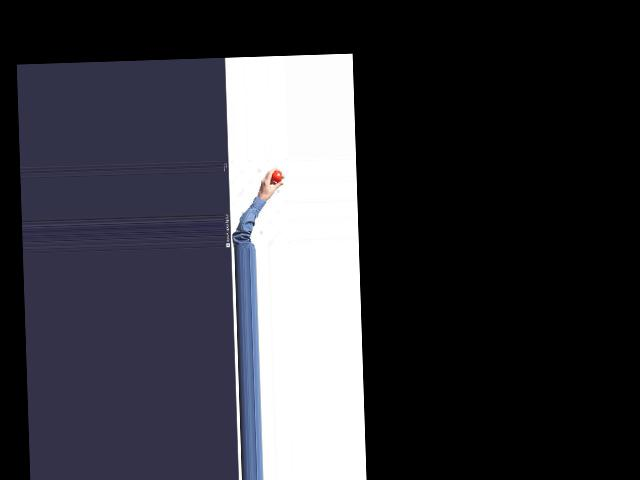tomato: (271, 169, 281, 182)
